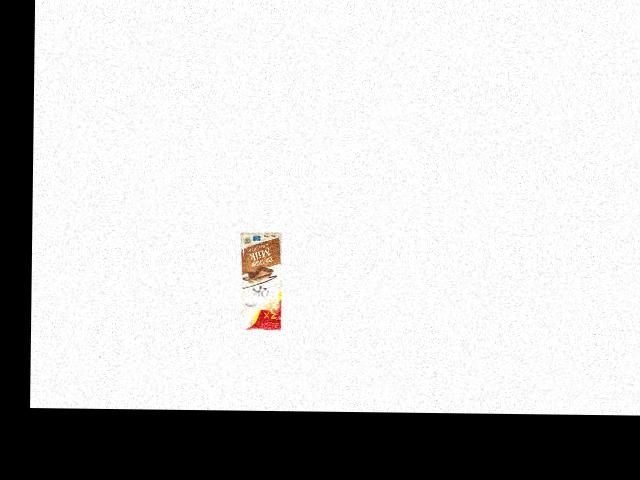chocolate: (237, 234, 285, 332)
